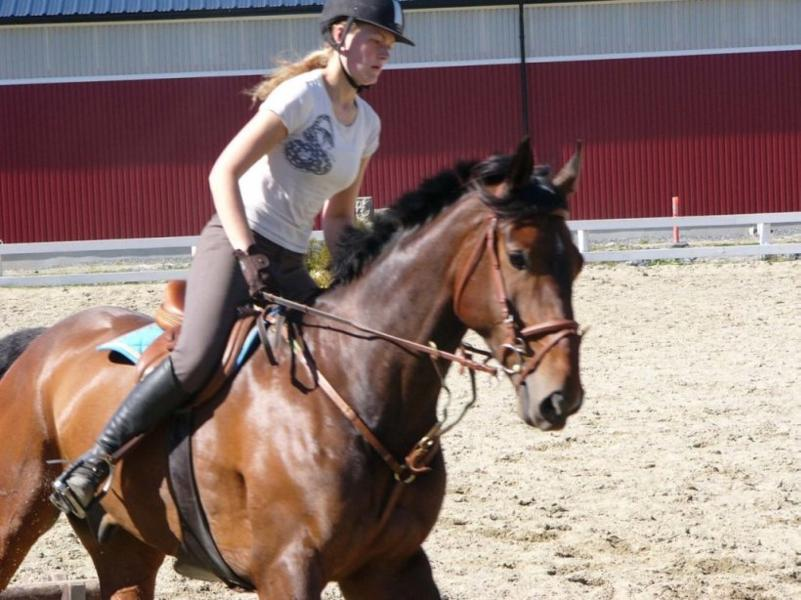person: (46, 1, 416, 523)
